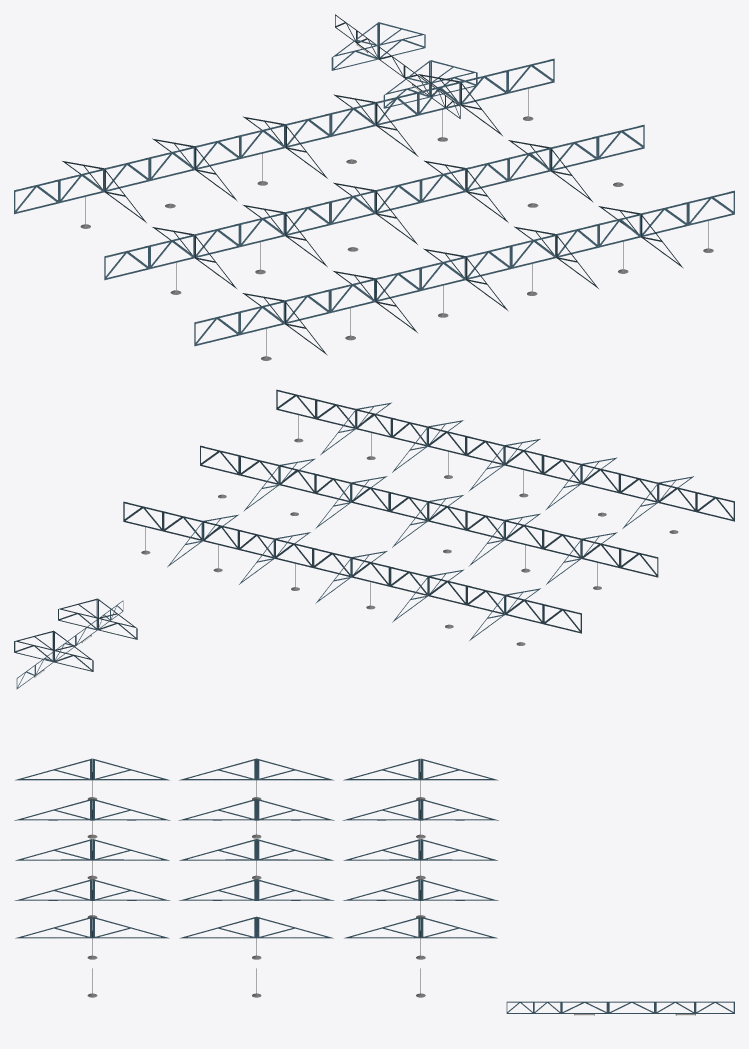
The model's file is crack_int2.obj.
3 renders of one model, top to bottom at view 1: azimuth 30°, elevation 25°; view 2: azimuth 150°, elevation 25°; view 3: azimuth 270°, elevation 25°, orthographic. The views are drawn at different scales.
Visible parts, largest first — view 1: crack_int2; view 2: crack_int2; view 3: crack_int2.
Boxes of the visible parts, x1,y1,x2,y2 form: crack_int2: [14, 14, 734, 360]; crack_int2: [14, 389, 734, 689]; crack_int2: [14, 758, 734, 1015].
Bounding box in the file's own units: 51.14 × 7.76 × 64.91.
Materials: 6 (6 with a texture image).
